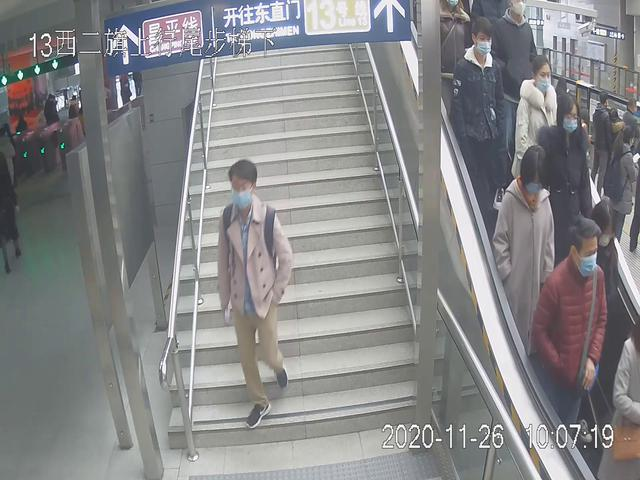person: (215, 157, 296, 429), (529, 217, 609, 480), (486, 141, 558, 364), (452, 16, 503, 232), (535, 94, 596, 270), (512, 51, 565, 245), (492, 1, 544, 192)
